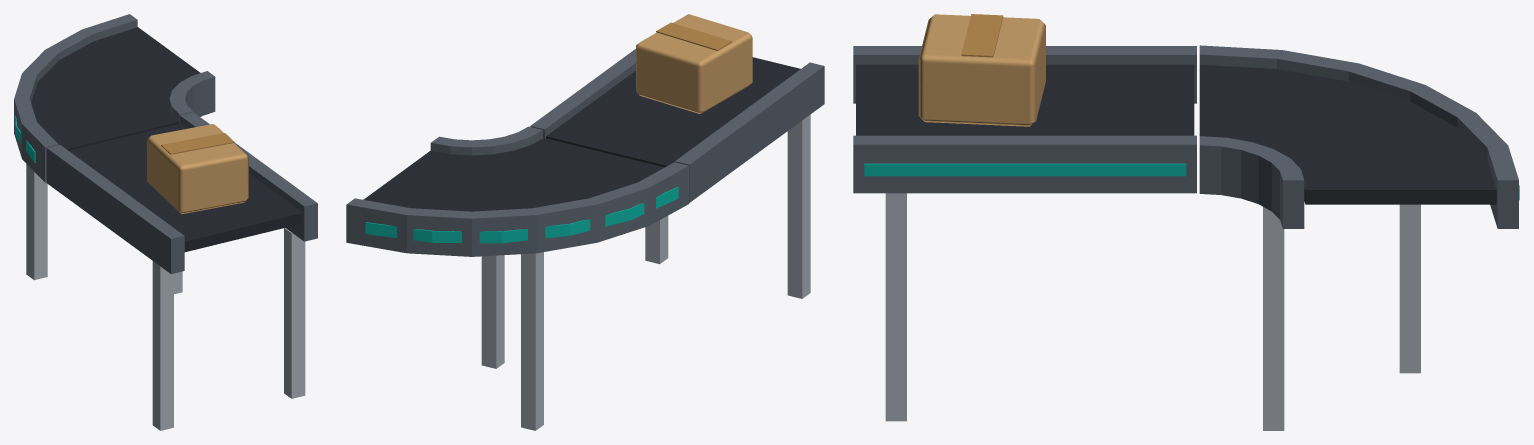
The model's file is station_transport_ausstattung_1_2.glb.
3 views of the same model, side by side, from view 1: azimuth 30°, elevation 25°; view 2: azimuth 150°, elevation 25°; view 3: azimuth 270°, elevation 25° (orthographic). The views are drawn at different scales.
Parts seen in each view (by area): view 1: station_transport_ausstattung_1_2; view 2: station_transport_ausstattung_1_2; view 3: station_transport_ausstattung_1_2.
Part boxes in pixels (x1,y1,x2,y2): station_transport_ausstattung_1_2: [14, 14, 317, 430]; station_transport_ausstattung_1_2: [346, 14, 824, 430]; station_transport_ausstattung_1_2: [853, 14, 1519, 430].
Size of the model in its own units: 0.5957 by 0.694 by 1.24.
